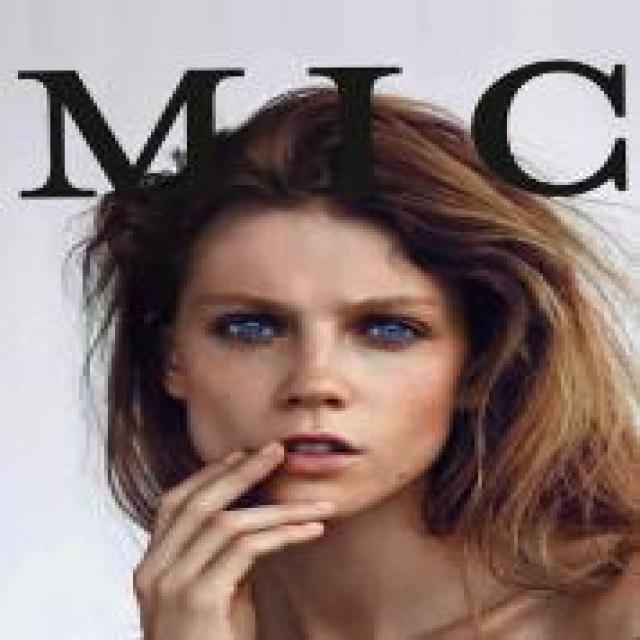nomask: (122, 138, 532, 525)
